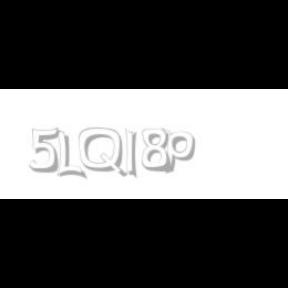5: (29, 128, 60, 174)
8: (142, 128, 170, 172)
L: (56, 128, 84, 180)
Q: (79, 128, 125, 178)
l: (125, 128, 141, 180)
p: (162, 128, 199, 174)
